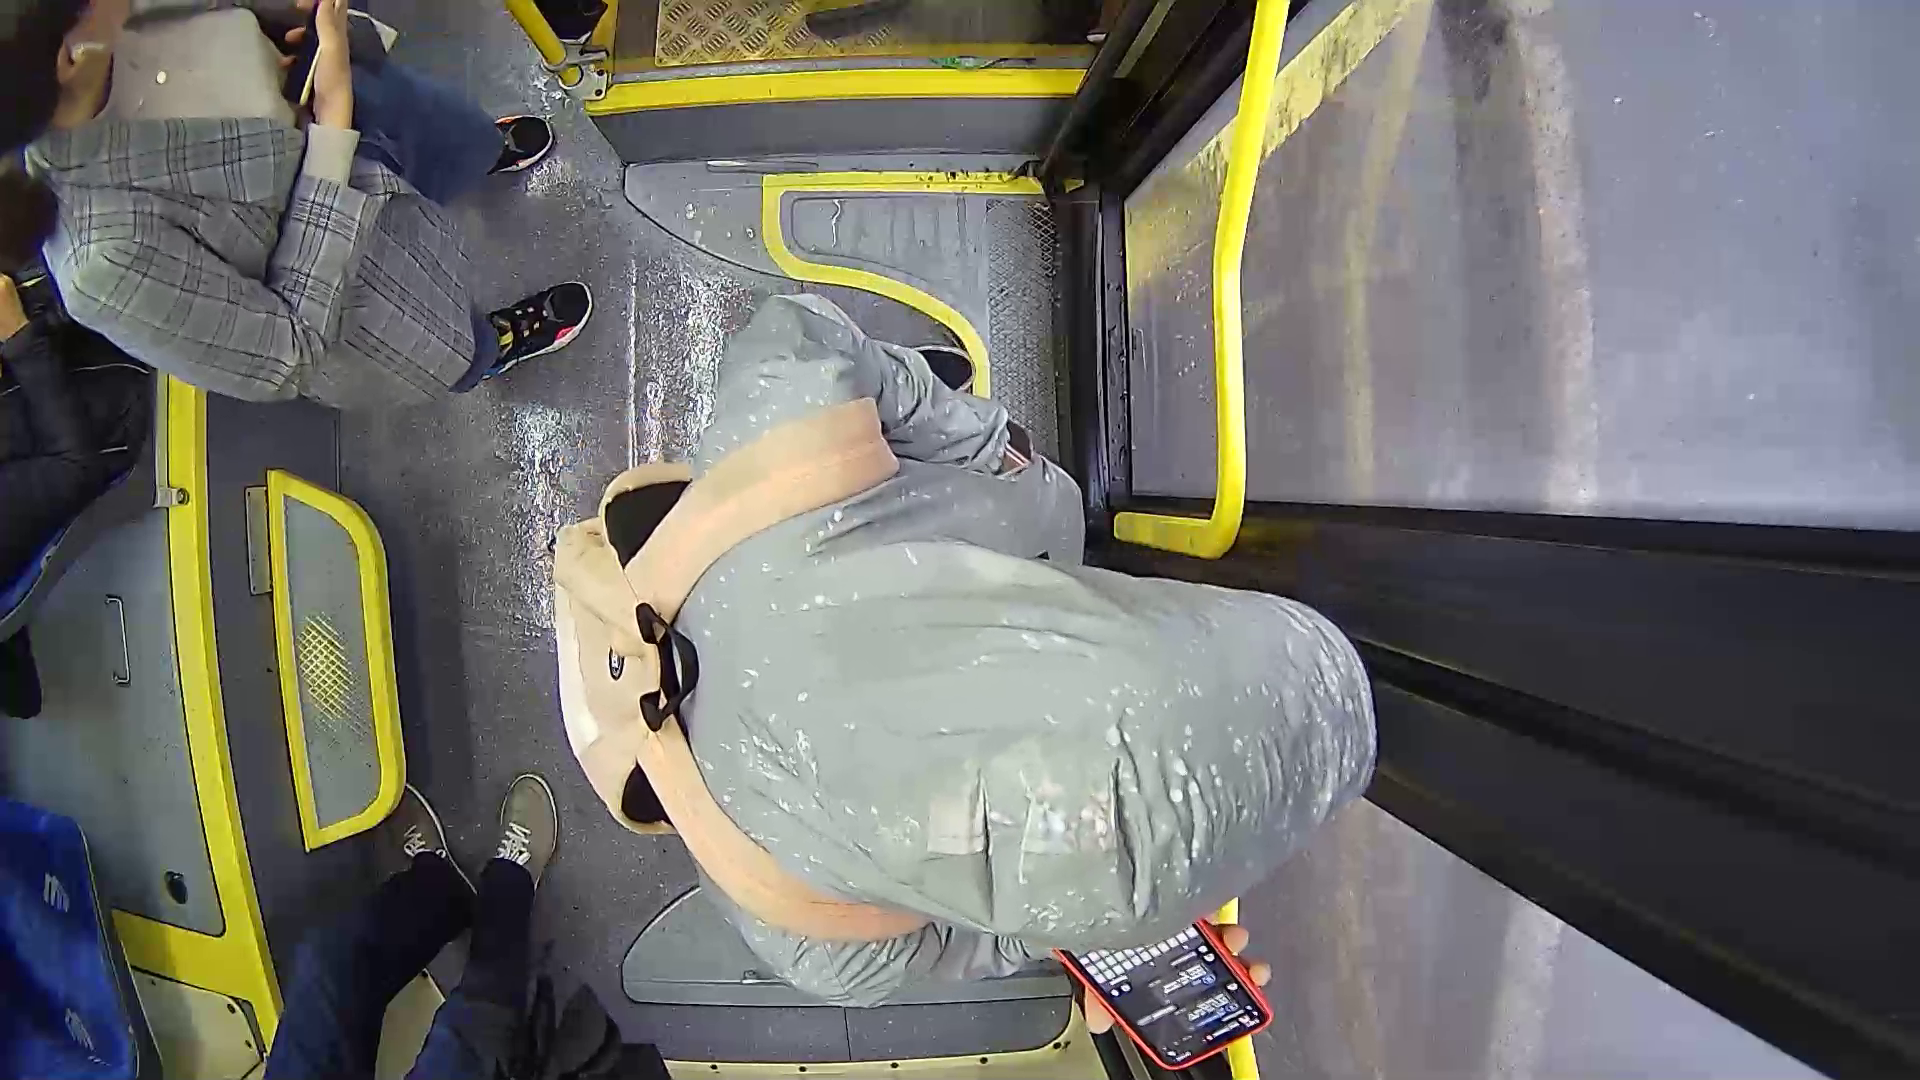person: (410, 310, 1406, 997)
